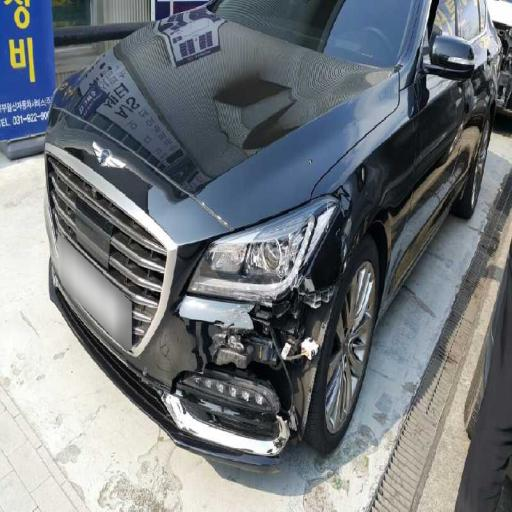broken: (173, 217, 352, 457)
